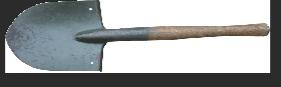PELLE: (2, 0, 281, 74)
